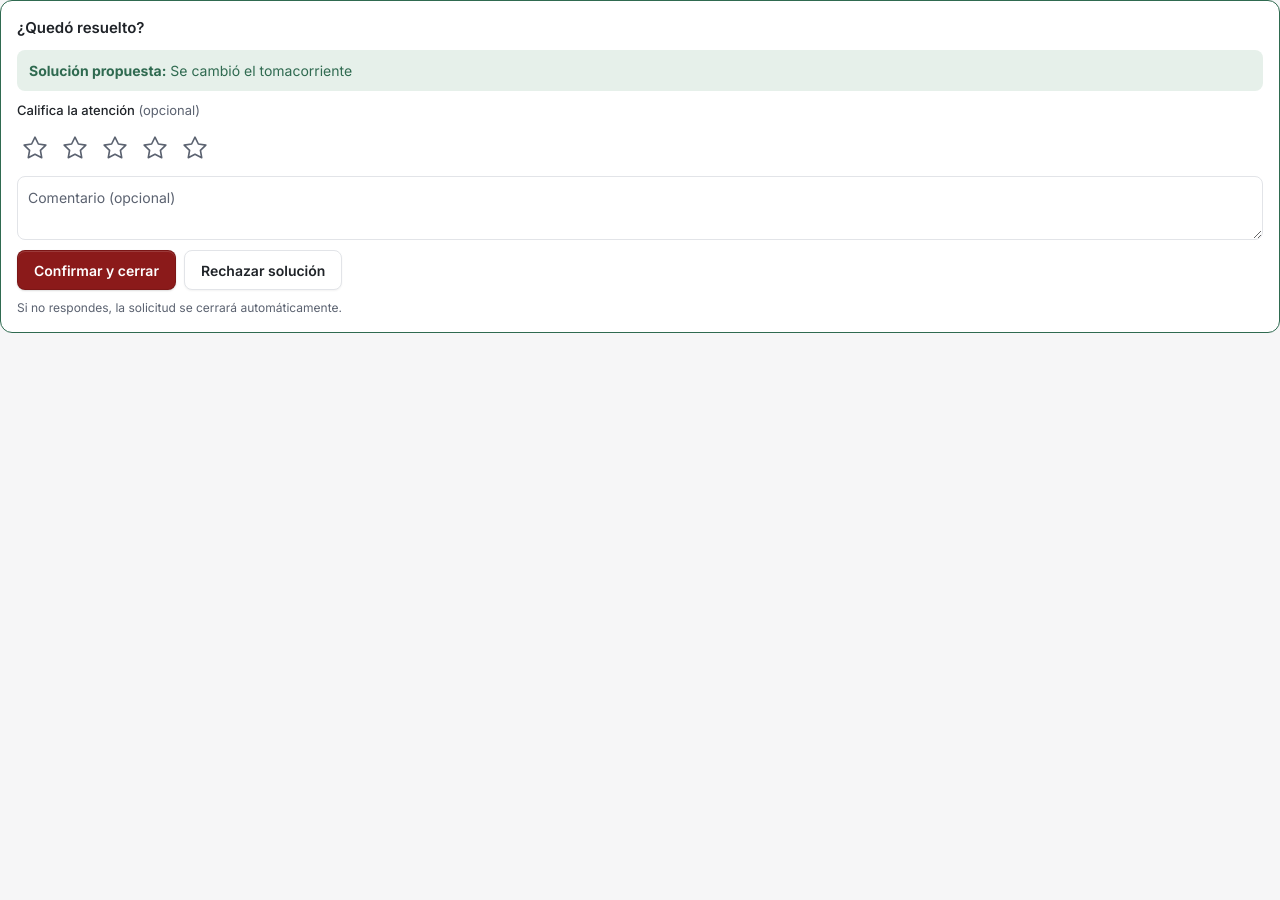
SatisfactionPanel: solicitud resuelta › si el cierre falla, muestra el motivo del servidor y no califica
Click the radio button named "3 estrellas".
click(115, 148)  # box [97, 130, 133, 166]
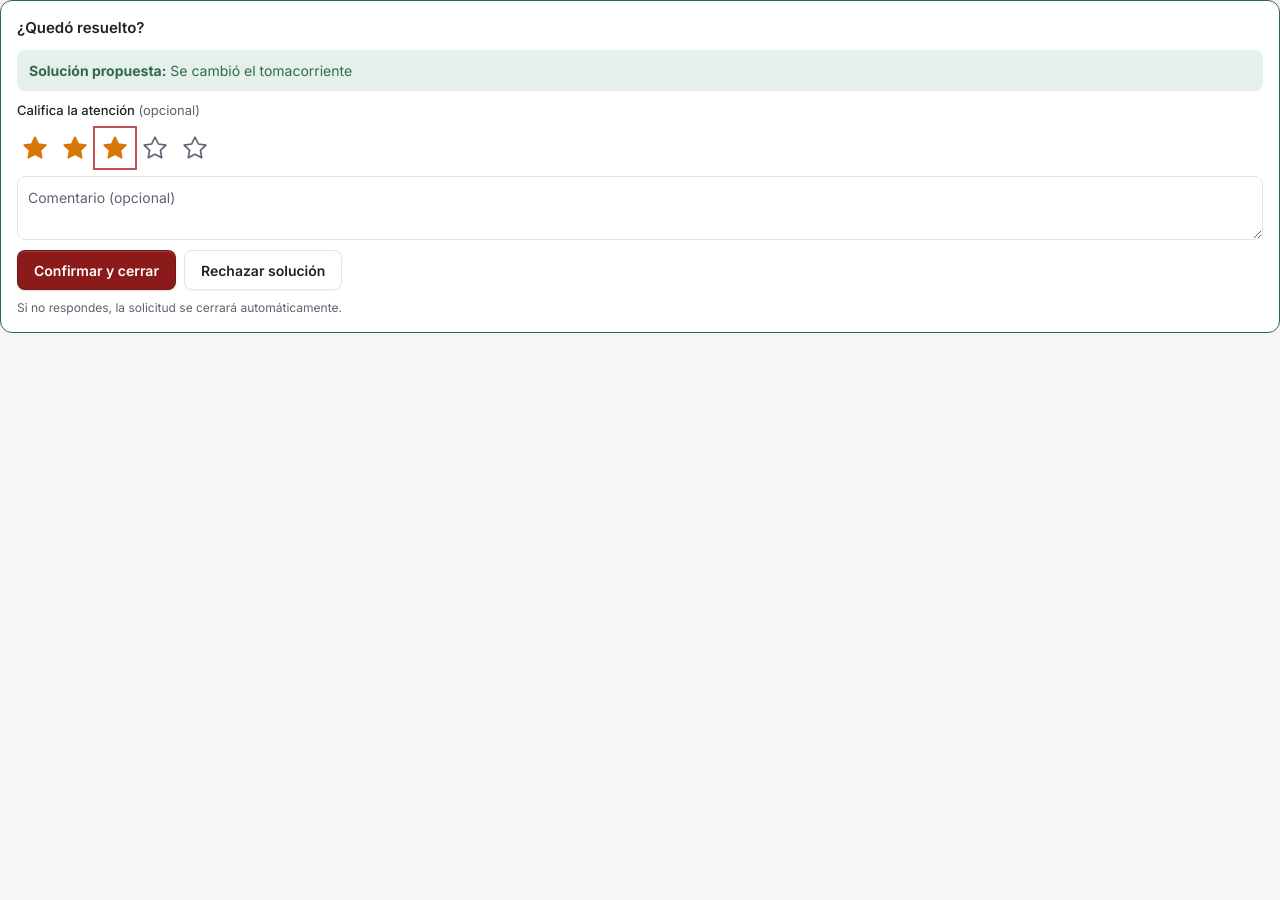
Click the button "Confirmar y cerrar".
click(96, 270)  # box [17, 250, 176, 290]
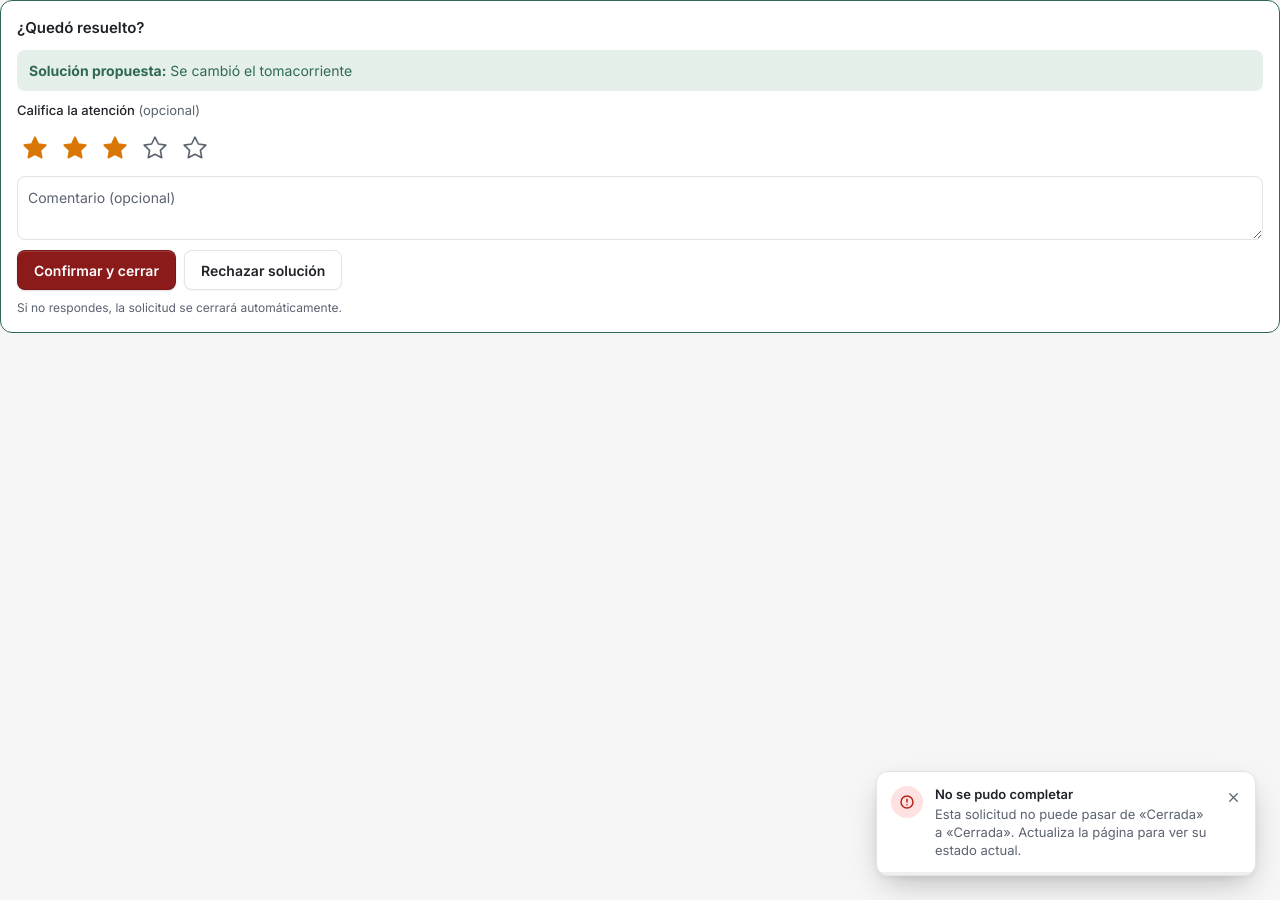
Result: the text "Esta solicitud no puede pasar de «Cerrada» a «Cerrada». Actualiza la página para ver su estado actual." is shown at [935, 806, 1206, 858]
